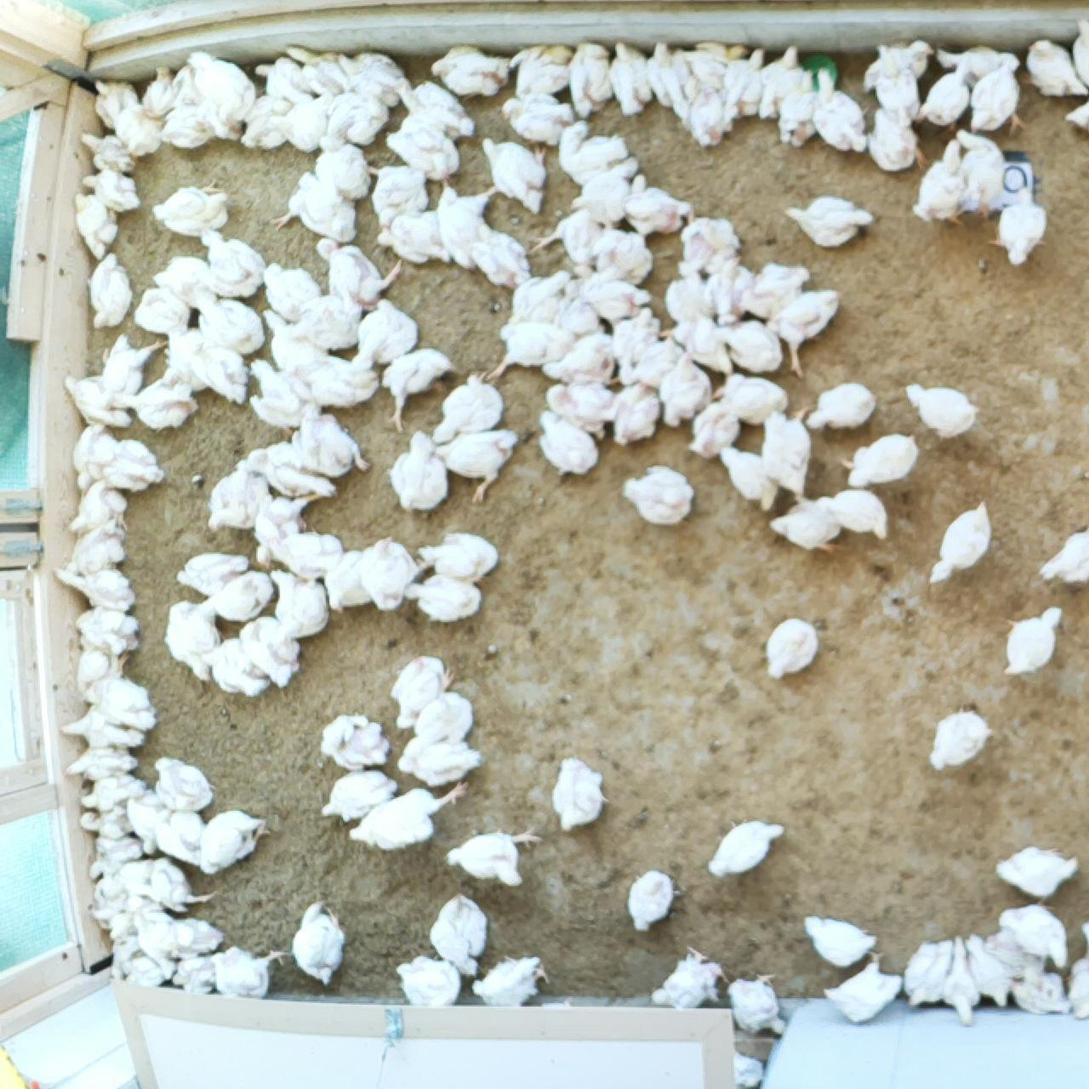chicken: (344, 780, 476, 854), (765, 287, 849, 381), (430, 425, 524, 505), (251, 487, 341, 568), (266, 170, 364, 242), (315, 235, 407, 311), (379, 346, 457, 435), (245, 358, 327, 440), (235, 441, 344, 502), (441, 825, 546, 888), (352, 534, 434, 614), (435, 178, 502, 275), (529, 204, 616, 277), (181, 283, 266, 357), (430, 367, 508, 447), (925, 499, 996, 586), (609, 304, 681, 388), (822, 951, 904, 1024), (385, 427, 453, 515), (348, 298, 429, 371), (552, 115, 633, 188), (482, 323, 582, 382), (714, 43, 774, 139), (564, 157, 647, 226), (387, 650, 458, 730), (292, 410, 374, 479), (481, 135, 551, 214), (641, 946, 733, 1006), (783, 191, 879, 248), (900, 378, 985, 442), (988, 185, 1052, 270), (731, 257, 815, 321), (762, 408, 817, 505), (998, 897, 1072, 969), (162, 597, 222, 685), (814, 66, 872, 157), (426, 893, 485, 982), (101, 329, 173, 401), (715, 368, 799, 429), (286, 291, 367, 354), (991, 844, 1082, 900), (197, 810, 275, 875), (658, 312, 736, 377), (291, 901, 350, 986), (147, 856, 224, 921), (60, 703, 162, 752), (998, 606, 1066, 679), (113, 376, 200, 433), (501, 267, 577, 332), (706, 818, 788, 878), (620, 464, 699, 526), (545, 377, 625, 438), (239, 618, 304, 693), (911, 138, 967, 225), (866, 102, 930, 178), (151, 178, 232, 238), (393, 737, 483, 791), (377, 206, 454, 269), (266, 525, 354, 580), (563, 268, 657, 319), (810, 488, 897, 543), (955, 128, 1008, 218), (210, 944, 292, 1002), (198, 638, 274, 700), (837, 433, 921, 489), (296, 355, 383, 409), (200, 228, 269, 296), (395, 83, 477, 140), (320, 767, 402, 824), (321, 709, 395, 772), (541, 331, 621, 389), (918, 51, 979, 127), (766, 496, 843, 556), (969, 57, 1026, 138), (257, 306, 328, 371), (537, 409, 602, 480), (430, 43, 512, 99), (372, 158, 434, 232), (965, 928, 1020, 1011), (337, 49, 414, 108), (468, 218, 530, 291), (552, 754, 607, 836), (205, 470, 274, 535), (269, 569, 333, 639), (563, 40, 619, 120), (468, 954, 553, 1006), (83, 442, 169, 493), (656, 351, 714, 426), (188, 52, 257, 115), (500, 93, 579, 148), (859, 34, 935, 91), (383, 129, 463, 183), (898, 937, 958, 1009), (678, 213, 744, 278), (718, 442, 778, 513), (414, 532, 502, 580), (930, 708, 996, 772), (265, 94, 339, 151), (403, 575, 484, 627), (51, 564, 136, 613), (725, 973, 790, 1037), (621, 183, 701, 235), (258, 258, 324, 321), (942, 932, 985, 1028), (408, 688, 483, 743), (606, 36, 655, 120), (755, 41, 807, 120), (104, 95, 168, 158), (187, 342, 250, 406), (312, 135, 373, 201), (762, 614, 823, 680), (806, 380, 883, 432), (129, 908, 183, 982), (285, 42, 358, 96), (713, 321, 787, 374), (776, 65, 822, 149), (392, 955, 465, 1007), (64, 520, 129, 578), (325, 91, 391, 148), (64, 374, 131, 430), (875, 40, 923, 118), (239, 91, 302, 150), (934, 43, 1026, 83), (199, 571, 277, 618), (627, 868, 684, 932), (151, 255, 219, 308), (151, 758, 217, 812), (160, 108, 241, 152), (802, 914, 876, 962), (1026, 41, 1089, 97), (987, 923, 1051, 978), (90, 251, 135, 329), (154, 805, 212, 865), (516, 41, 578, 97), (69, 422, 117, 494), (613, 381, 666, 446), (77, 675, 159, 717), (74, 190, 122, 261), (164, 325, 215, 391), (73, 606, 143, 654), (67, 487, 134, 537), (132, 286, 195, 339), (597, 234, 657, 289), (59, 745, 141, 785), (672, 74, 718, 145), (176, 552, 253, 594), (324, 548, 377, 609), (1012, 969, 1075, 1020), (687, 403, 744, 459), (556, 284, 612, 341), (1038, 525, 1089, 587), (148, 919, 227, 959), (124, 791, 170, 857), (663, 265, 710, 329), (253, 56, 321, 100), (706, 262, 754, 324), (75, 774, 148, 814), (679, 39, 744, 83), (87, 834, 145, 883), (80, 168, 144, 212), (76, 648, 131, 699), (107, 887, 172, 928), (107, 912, 145, 981), (91, 79, 143, 129), (652, 46, 693, 109), (79, 130, 138, 173), (1065, 920, 1089, 1020), (88, 873, 127, 930), (140, 65, 181, 119), (76, 804, 137, 840), (171, 954, 220, 995), (167, 61, 205, 109), (122, 952, 174, 986), (107, 861, 159, 894), (1072, 9, 1089, 94), (733, 1051, 765, 1089), (1062, 99, 1089, 134)
